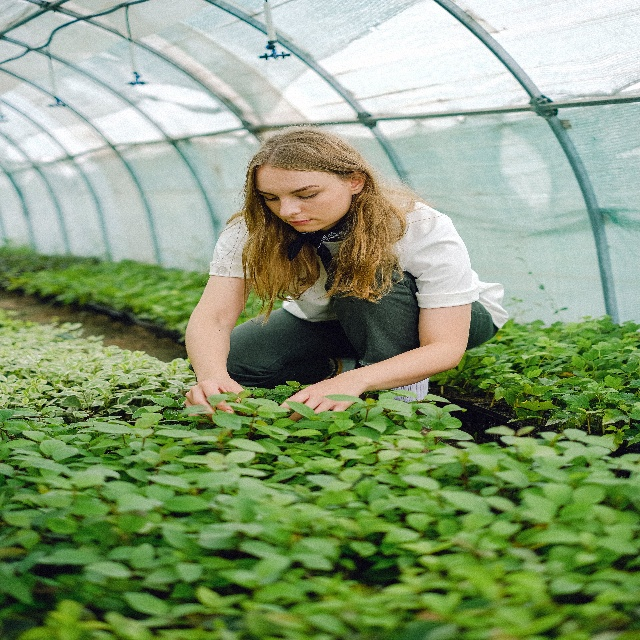Sin_guantes: (278, 368, 366, 424), (185, 373, 249, 419)
